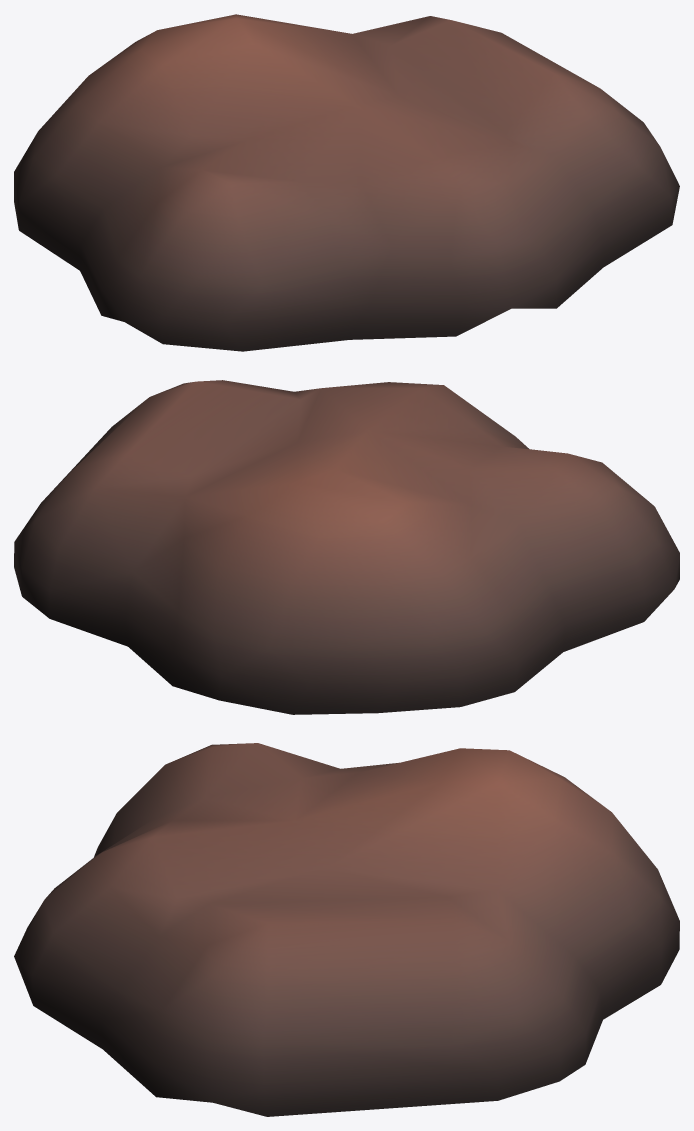
File: Capsule_contents_008.fbx
The picture shows the model from 3 angles, top to bottom: view 1: azimuth 30°, elevation 25°; view 2: azimuth 150°, elevation 25°; view 3: azimuth 270°, elevation 25°; orthographic projection. The views are drawn at different scales.
Parts seen in each view (by area): view 1: Сapsule_contents_008; view 2: Сapsule_contents_008; view 3: Сapsule_contents_008.
Part boxes in pixels (x1,y1,x2,y2): Сapsule_contents_008: [14, 14, 679, 351]; Сapsule_contents_008: [14, 380, 679, 714]; Сapsule_contents_008: [14, 743, 679, 1116].
Bounding box in the file's own units: 73.41 × 70.29 × 20.31.
